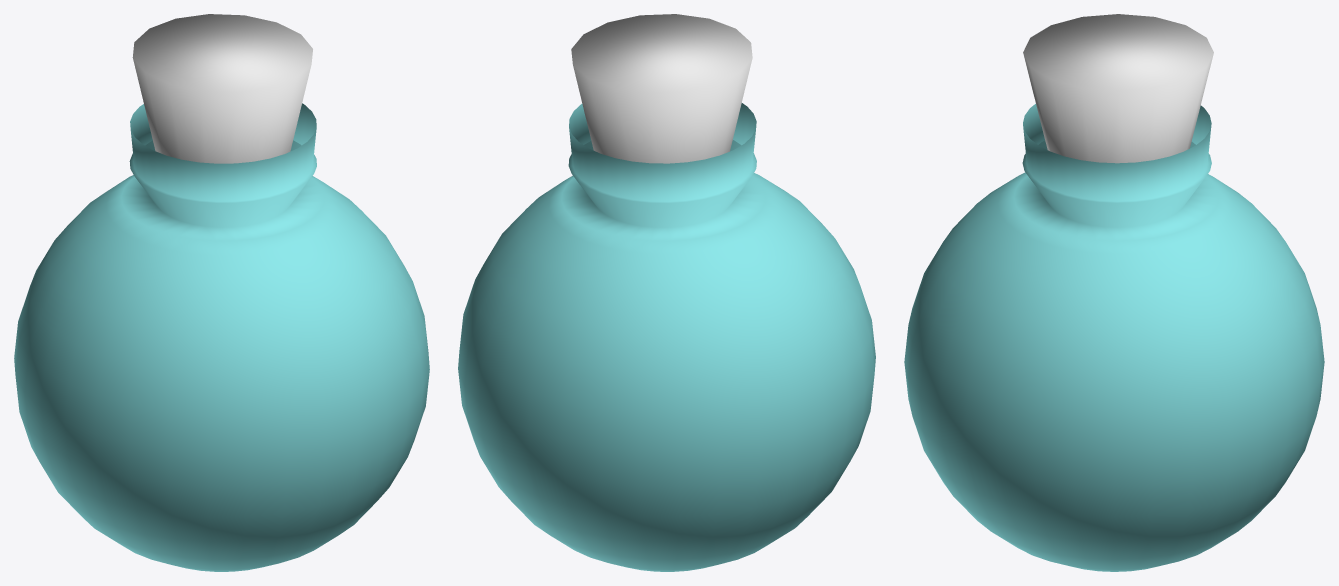
Rendered from potiunesferamodcol2.fbx.
3 renders of one model, left to right at view 1: azimuth 30°, elevation 25°; view 2: azimuth 150°, elevation 25°; view 3: azimuth 270°, elevation 25°, orthographic.
Parts seen in each view (by area): view 1: Sphere, CylinderSphere; view 2: Sphere, CylinderSphere; view 3: Sphere, CylinderSphere.
Boxes of the visible parts, x1,y1,x2,y2 form: Sphere: (14,103,429,571); CylinderSphere: (132,14,312,163); Sphere: (458,103,875,571); CylinderSphere: (571,14,752,163); Sphere: (904,103,1324,571); CylinderSphere: (1023,14,1213,163).
Bounding box in the file's own units: 455 × 599 × 455.
